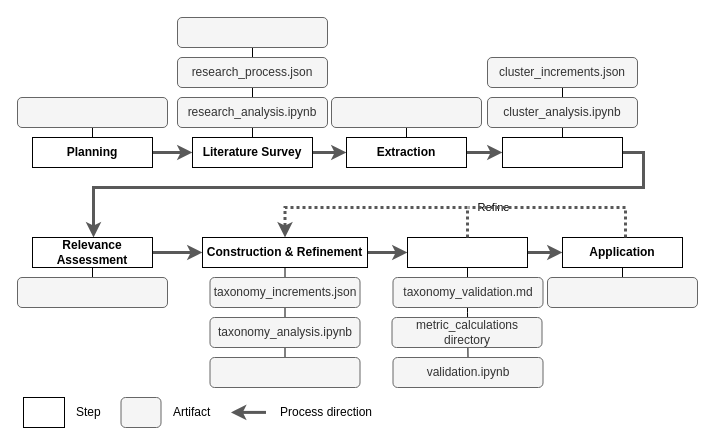
This 715x445 diagram has some shape labels left out. The shapes that lost their labels are listed below. From the top down, each one's centre as x and y in pixels, then its label:
At pixel 252 32: ".bib files".
At pixel 92 112: "planning.md".
At pixel 406 112: "extraction.json".
At pixel 562 152: "Clustering".
At pixel 467 252: "Validation".
At pixel 92 292: "cluster_relevance_ assessment.md".
At pixel 622 292: "taxonomy_application.md".
At pixel 284 372: "taxonomy_construction.md".
